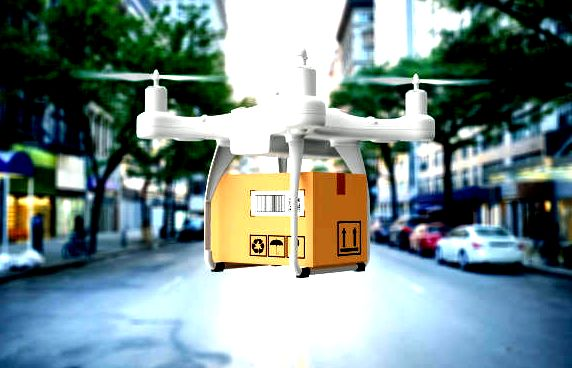Drone: (74, 42, 490, 165)
